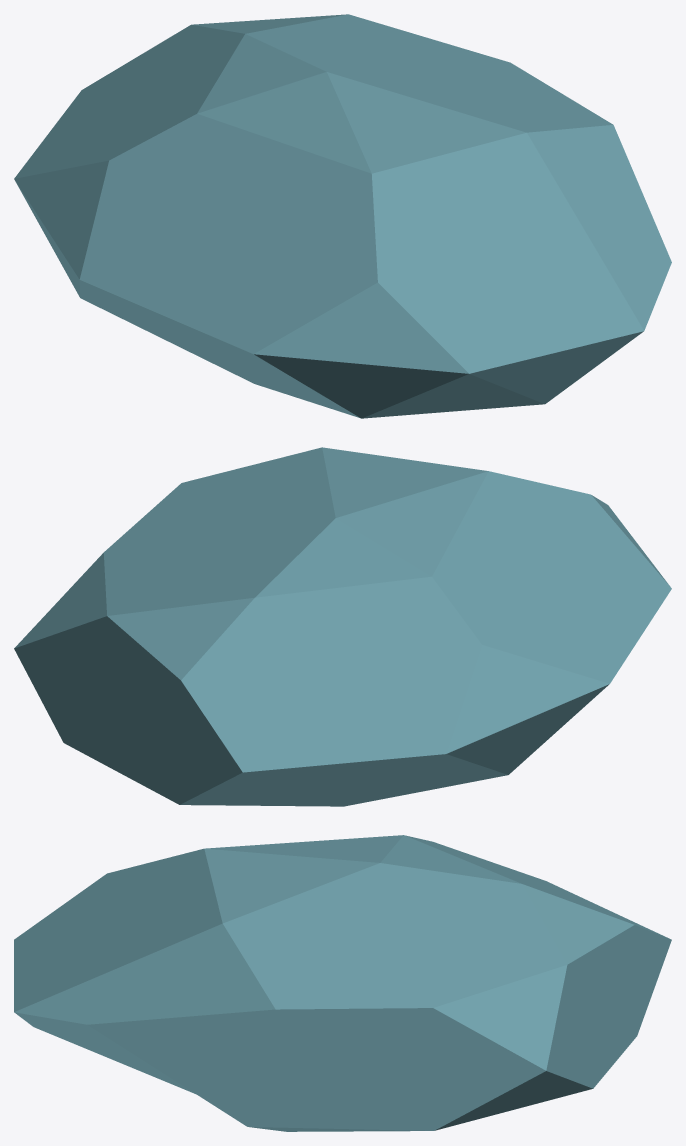
The model's file is RockA.fbx.
The picture shows the model from 3 angles, top to bottom: view 1: azimuth 30°, elevation 25°; view 2: azimuth 150°, elevation 25°; view 3: azimuth 270°, elevation 25°; orthographic projection. The views are drawn at different scales.
Parts seen in each view (by area): view 1: Icosphere; view 2: Icosphere; view 3: Icosphere.
Part boxes in pixels (box(x1,y1,x2,y2)): Icosphere: box(14, 14, 671, 418); Icosphere: box(14, 447, 671, 806); Icosphere: box(14, 835, 671, 1131).
Bounding box in the file's own units: 179 × 85.04 × 229.
